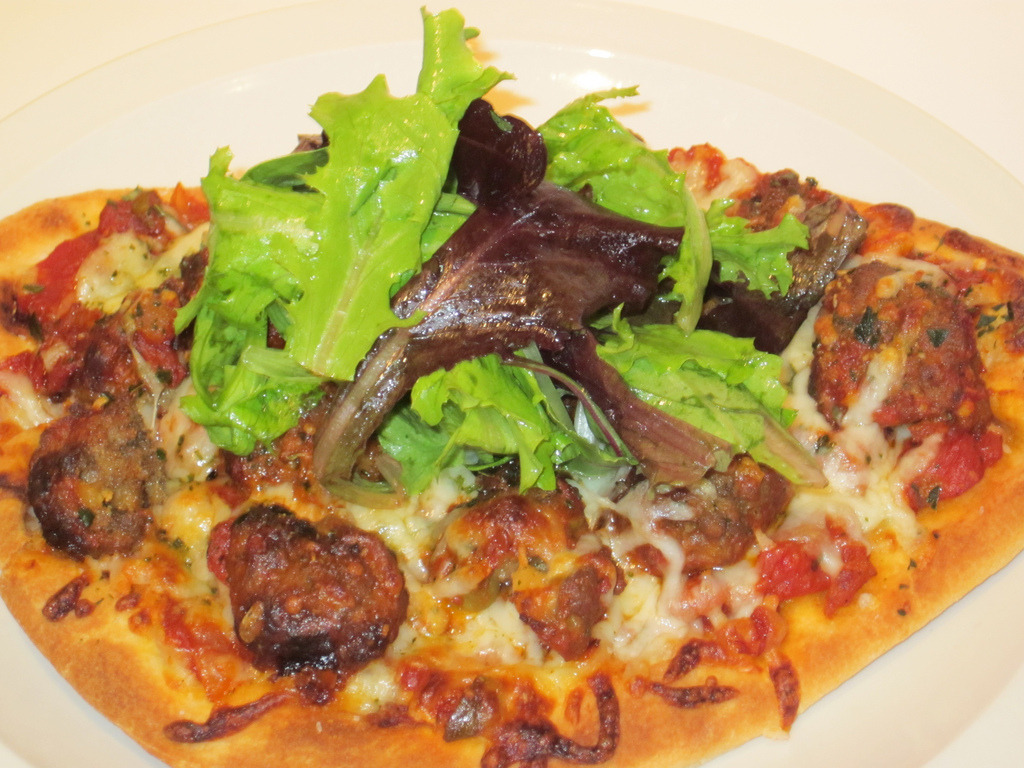chopped lettuce: (212, 61, 783, 500)
meatballs: (211, 512, 391, 665), (830, 282, 983, 448), (474, 495, 616, 627), (36, 407, 161, 553)
